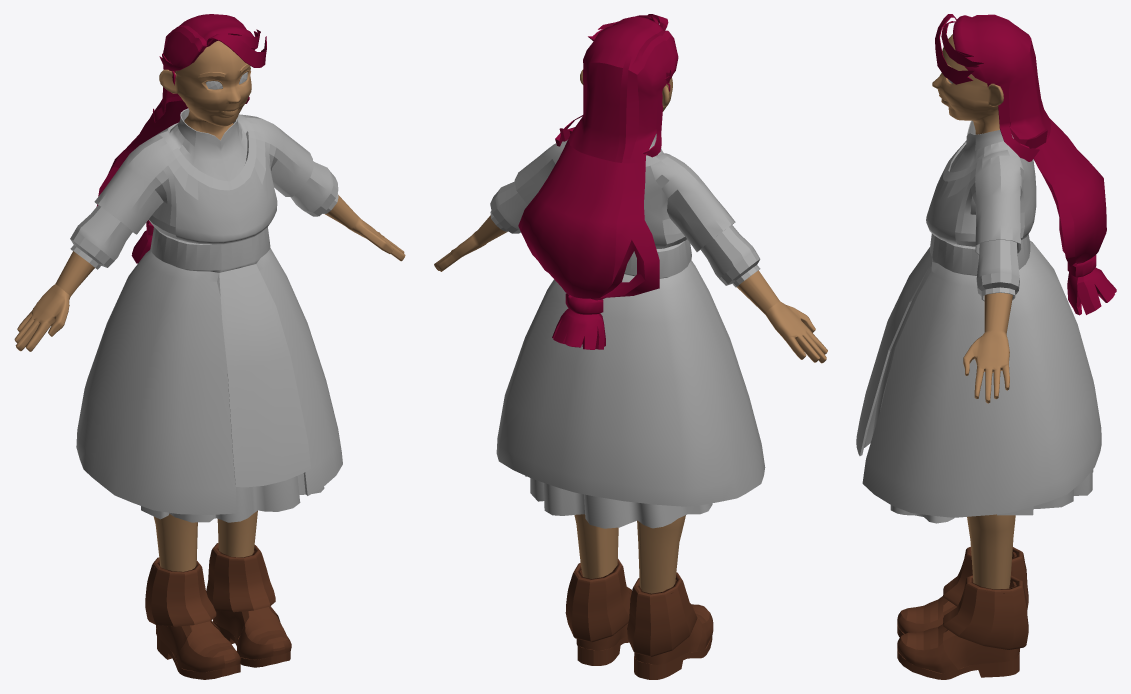
The model's file is placeholder_allenia.fbx.
3 renders of one model, left to right at view 1: azimuth 30°, elevation 25°; view 2: azimuth 150°, elevation 25°; view 3: azimuth 270°, elevation 25°, orthographic.
Visible parts, largest first — view 1: PlayerCharacter; view 2: PlayerCharacter; view 3: PlayerCharacter.
Part boxes in pixels (x1=…): PlayerCharacter: x1=14, y1=14, x2=405, y2=679; PlayerCharacter: x1=434, y1=14, x2=827, y2=679; PlayerCharacter: x1=856, y1=14, x2=1116, y2=679.
Size of the model in its own units: 6.88 by 10.63 by 3.95.
